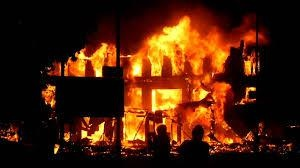fire: (58, 16, 273, 156), (42, 82, 57, 107)
